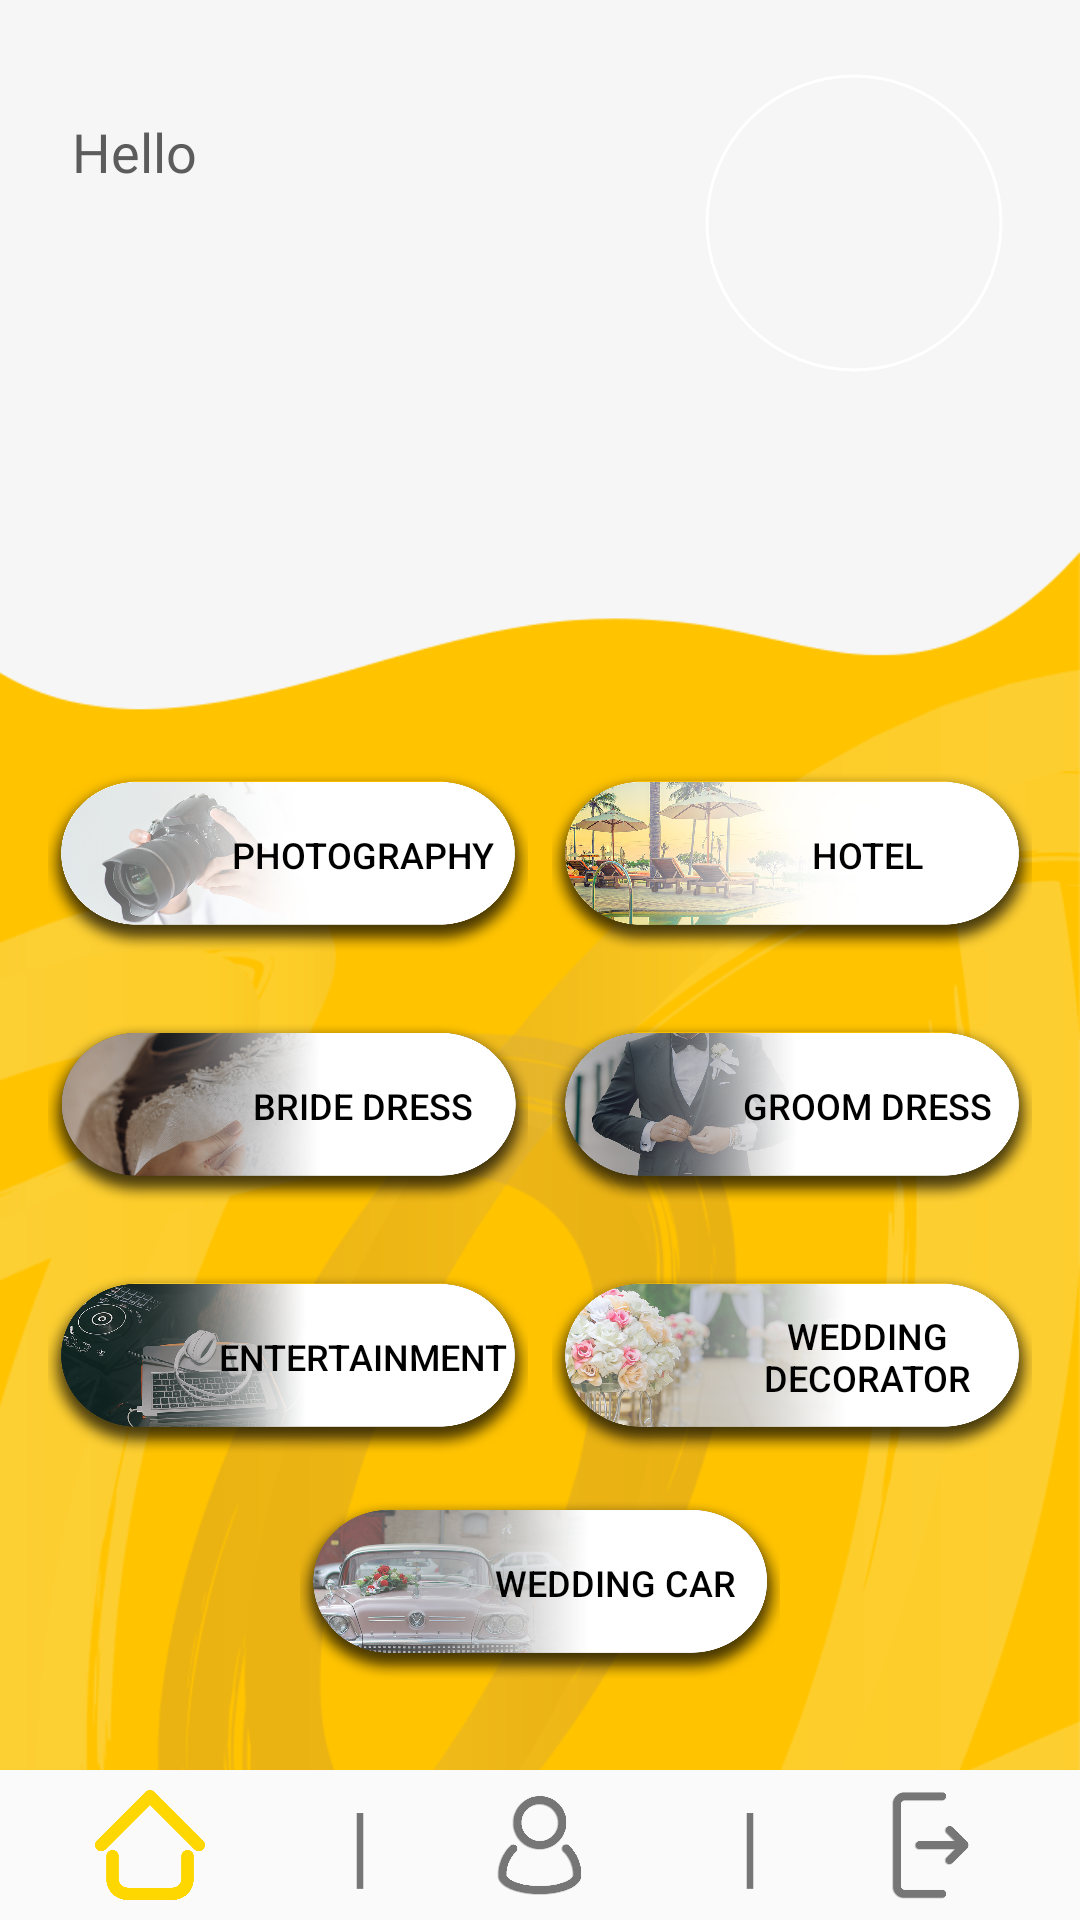

Icon bounding boxes for this 1080*1920 phone screenshot, format rect(x1, y1, x2, y2):
homeselect: rect(95, 1790, 205, 1900)
